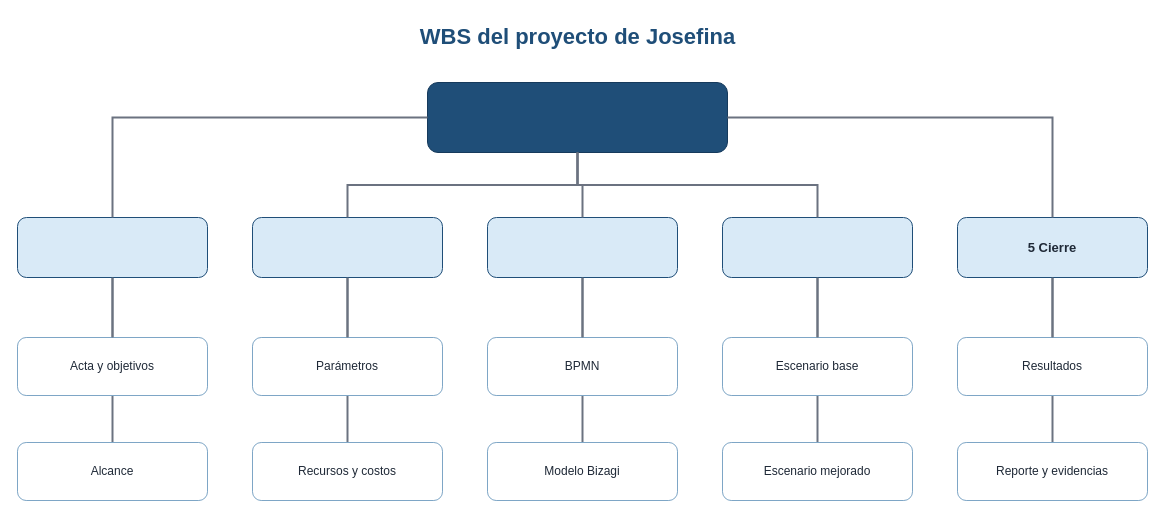
This 1165x518 diagram has some shape labels left out. Each missing label, with the centre of its shape:
1 Inicio: the point at 112,247
2 Planificación: the point at 347,247
3 Modelado: the point at 582,247
4 Experimentación: the point at 817,247
Proyecto Josefina: the point at 577,117
